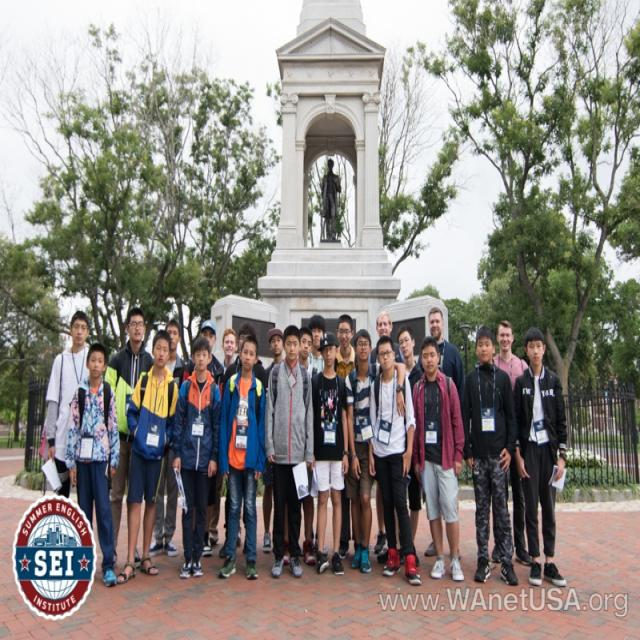body: (115, 328, 182, 585), (342, 327, 408, 574), (460, 323, 521, 585), (509, 326, 568, 588), (62, 340, 120, 587), (367, 332, 421, 584), (410, 334, 464, 582), (106, 305, 156, 572), (263, 323, 314, 579), (171, 334, 224, 579), (376, 324, 426, 567), (218, 335, 266, 581), (181, 318, 225, 557), (39, 310, 92, 507), (491, 318, 532, 566), (147, 317, 189, 557), (282, 325, 323, 567), (310, 330, 348, 576), (333, 313, 365, 561), (262, 327, 290, 551), (416, 305, 465, 420), (221, 319, 266, 406), (367, 308, 405, 381), (319, 157, 342, 243), (308, 314, 326, 374), (221, 326, 239, 374), (6, 421, 26, 452)
